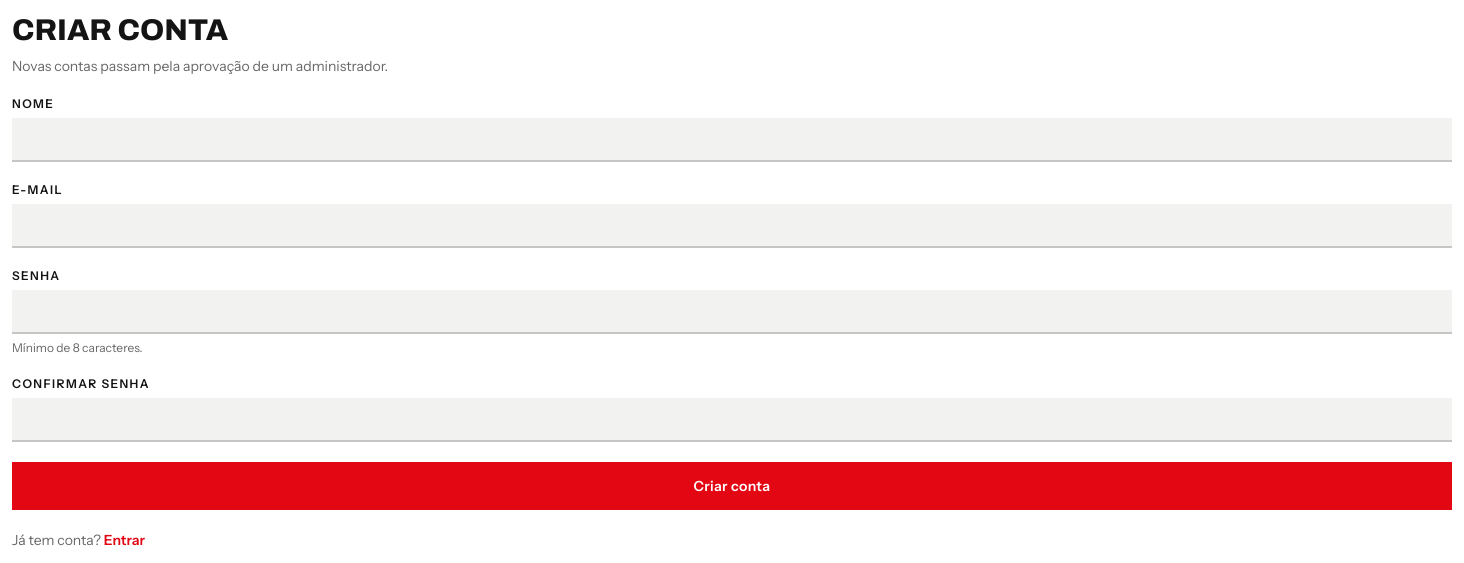
Test: SignupForm › shows the pending-approval screen for later users
Type "Ana Souza" into the field labelled "Nome" at (732, 140), box 12,118 -> 1452,162
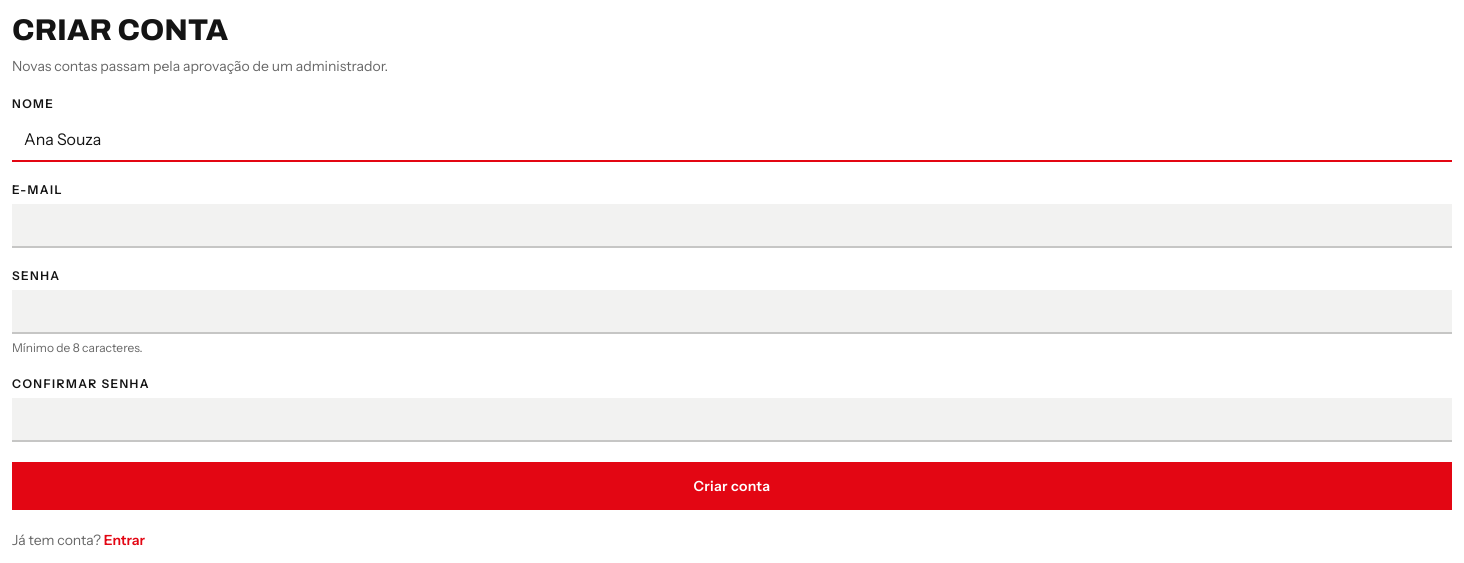
Type "ana@x.com" into the field labelled "E-mail" at (732, 226), box 12,204 -> 1452,248
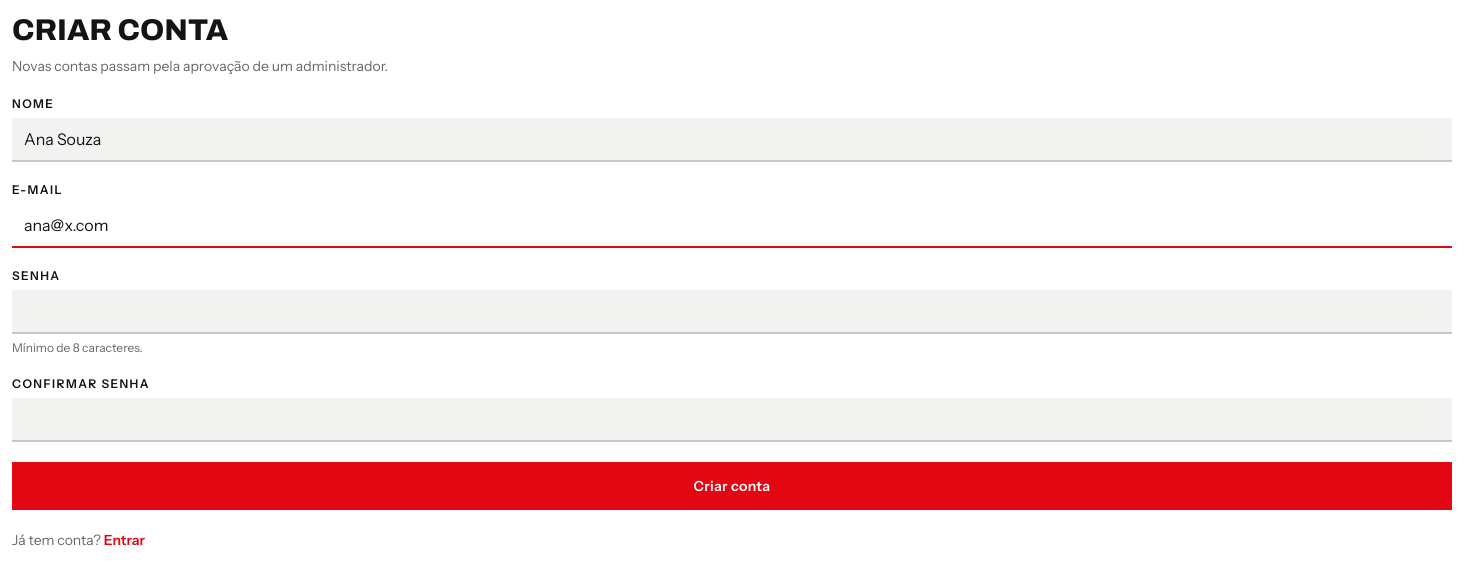
Type "senha-segura" into the password field labelled "Senha" at (732, 312), box 12,290 -> 1452,334
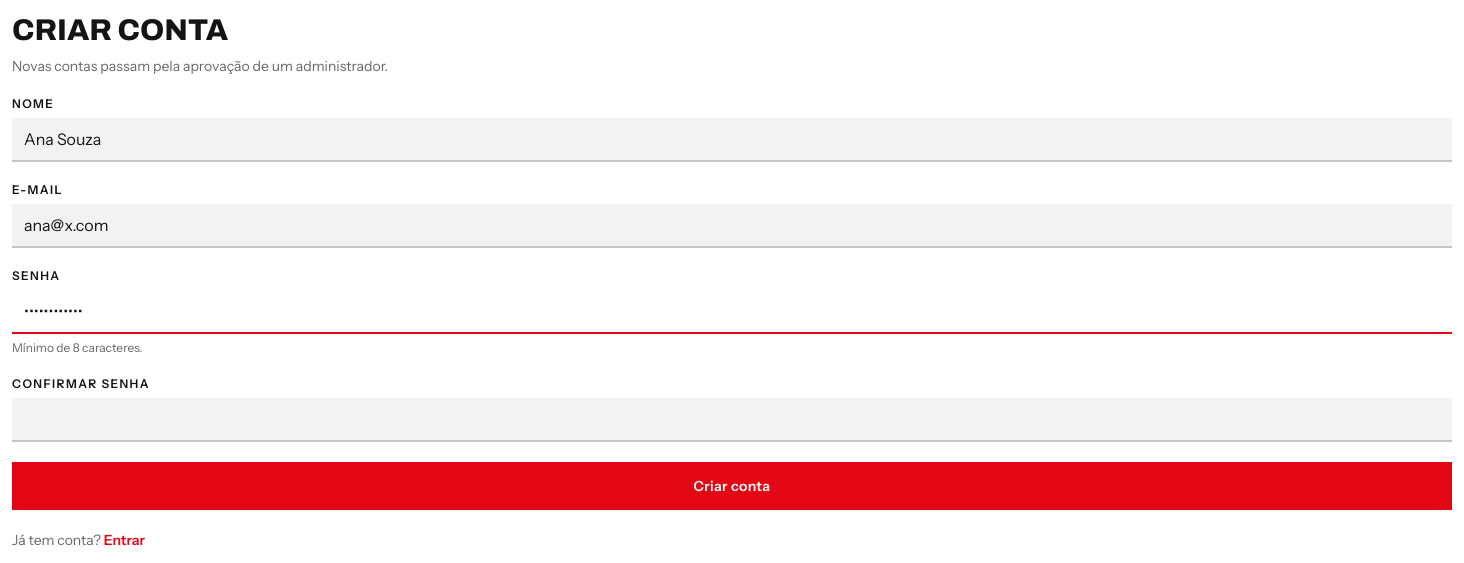
Type "senha-segura" into the password field labelled "Confirmar senha" at (732, 420), box 12,398 -> 1452,442
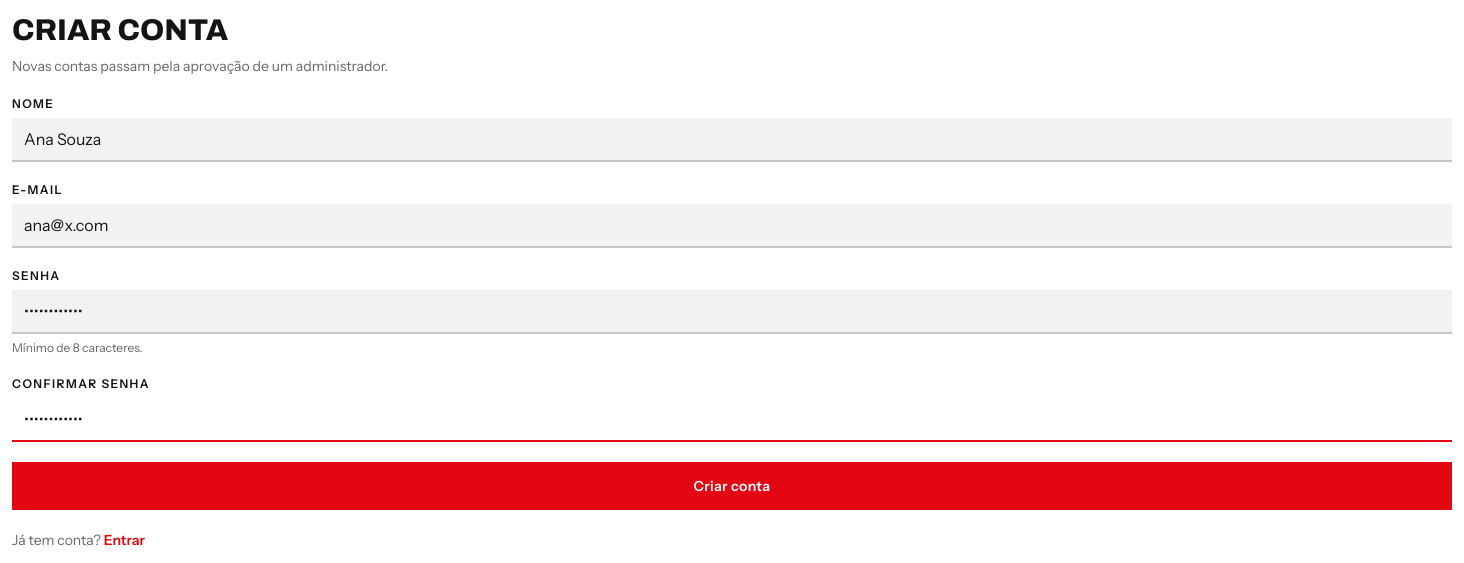
Click the button "Criar conta" at (732, 486), box 12,462 -> 1452,510
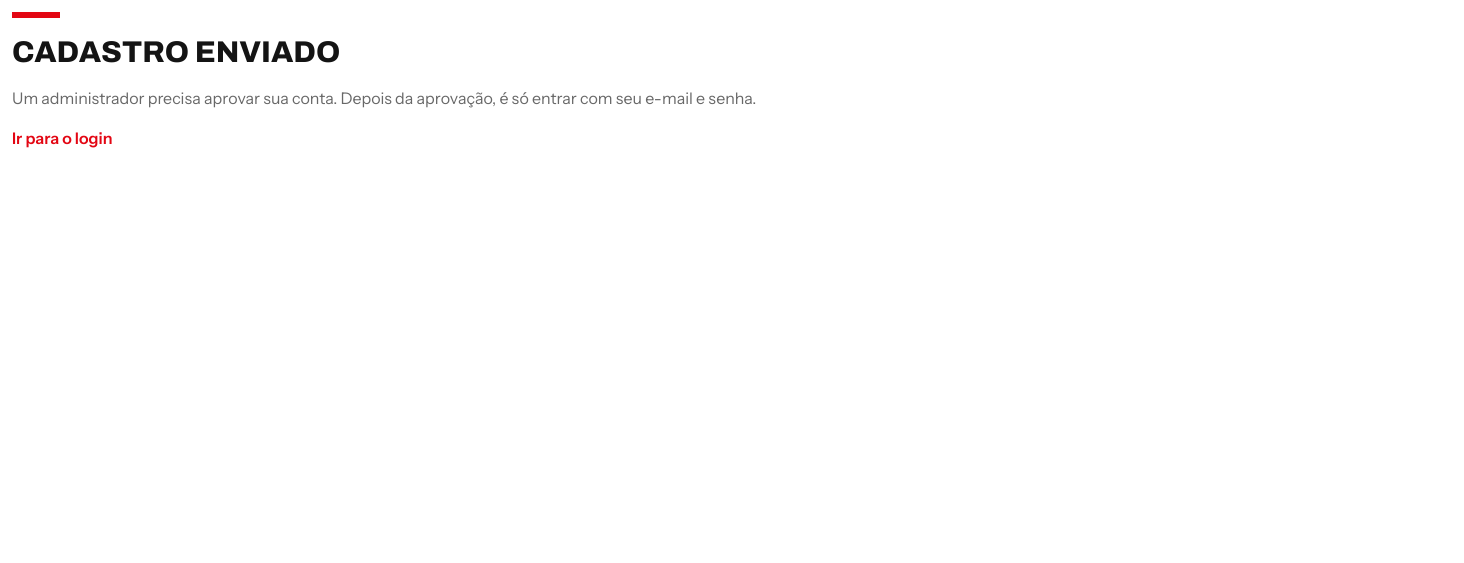
expect the heading "Cadastro enviado" is shown: met, box 12,36 -> 340,68
